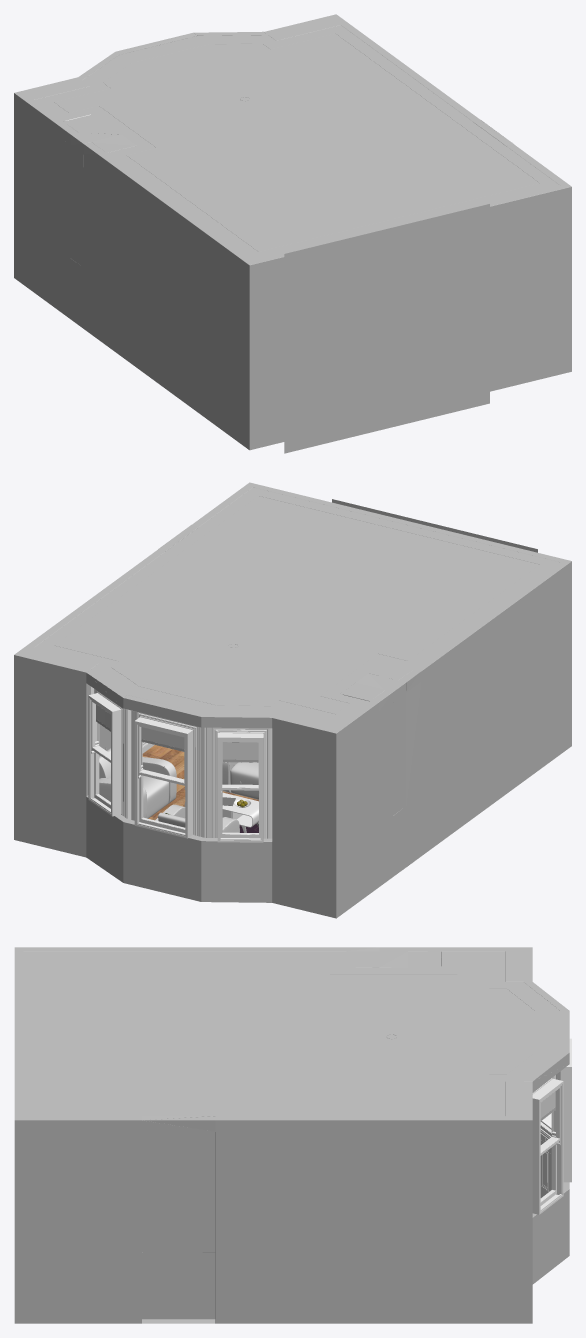
File: soggiorno.glb
3 renders of one model, top to bottom at view 1: azimuth 30°, elevation 25°; view 2: azimuth 150°, elevation 25°; view 3: azimuth 270°, elevation 25°, orthographic. The views are drawn at different scales.
Visible parts, largest first — view 1: 125_Walls, 121_Walls, 01_Walls; view 2: 125_Walls, 121_Walls, 129_WhitePaint, 131_WhitePaint, 126_WhitePaint, 130_WhitePaint, 127_WhitePaint, 128_WhitePaint, 122_Floor, 134_SofaLeather, 01_Walls, 139_SofaLeather (+4 smaller); view 3: 125_Walls, 121_Walls, 126_WhitePaint, 130_WhitePaint, 127_WhitePaint.
Boxes of the visible parts, x1=… form: 125_Walls: x1=14, y1=14, x2=571, y2=450; 121_Walls: x1=34, y1=25, x2=559, y2=260; 01_Walls: x1=284, y1=204, x2=489, y2=453; 125_Walls: x1=14, y1=482, x2=571, y2=918; 121_Walls: x1=34, y1=487, x2=559, y2=722; 129_WhitePaint: x1=205, y1=727, x2=272, y2=838; 131_WhitePaint: x1=131, y1=710, x2=205, y2=837; 126_WhitePaint: x1=88, y1=693, x2=122, y2=816; 130_WhitePaint: x1=134, y1=717, x2=193, y2=838; 127_WhitePaint: x1=91, y1=686, x2=131, y2=819; 128_WhitePaint: x1=217, y1=732, x2=263, y2=842; 122_Floor: x1=142, y1=745, x2=258, y2=820; 134_SofaLeather: x1=99, y1=757, x2=176, y2=818; 01_Walls: x1=332, y1=499, x2=537, y2=552; 139_SofaLeather: x1=230, y1=762, x2=258, y2=799; 125_Walls: x1=14, y1=947, x2=569, y2=1323; 121_Walls: x1=23, y1=951, x2=560, y2=1116; 126_WhitePaint: x1=532, y1=1078, x2=563, y2=1214; 130_WhitePaint: x1=560, y1=1038, x2=571, y2=1182; 127_WhitePaint: x1=532, y1=1071, x2=560, y2=1205.
Bounding box in the file's own units: 5.73 × 3.39 × 7.81.
66 materials, 17 textured.
